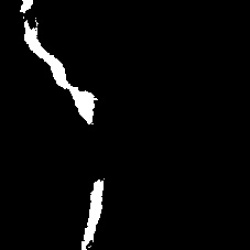crack: (23, 18, 96, 124), (83, 182, 103, 248), (19, 0, 34, 13)
